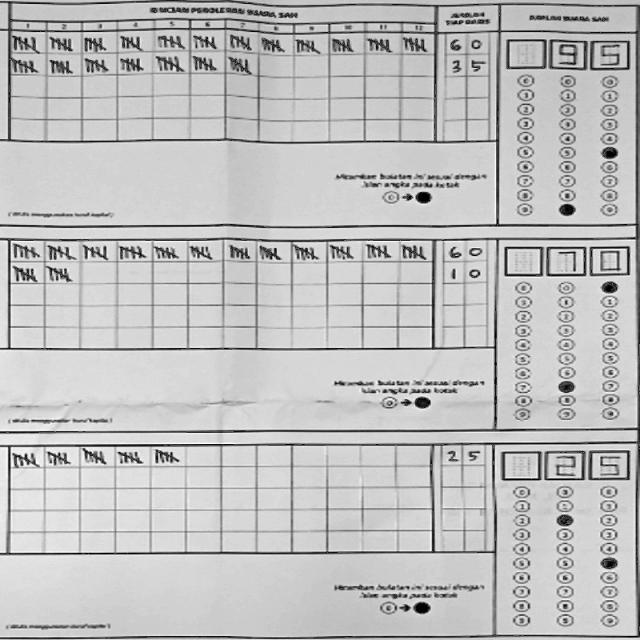Suara: (498, 446, 630, 486), (502, 241, 632, 280), (502, 34, 632, 72)
